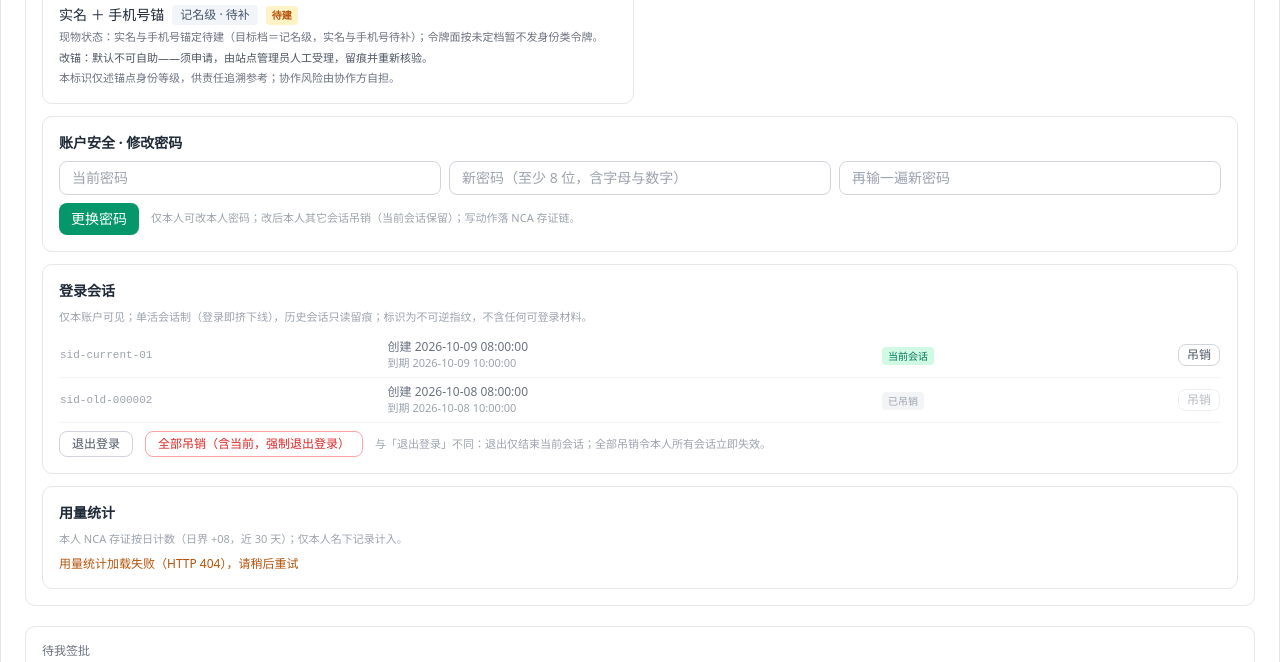
用户控制台 P1（me.tsx 扩充面） › 登录会话卡（踢指定 404）：提示「会话不存在或已失效」（不可见处理口径如实透出）
(page scrolled)
Click the button with test id "me-sess-revoke-sid-current-01" at point(1199, 355), box [1178,344,1220,366]
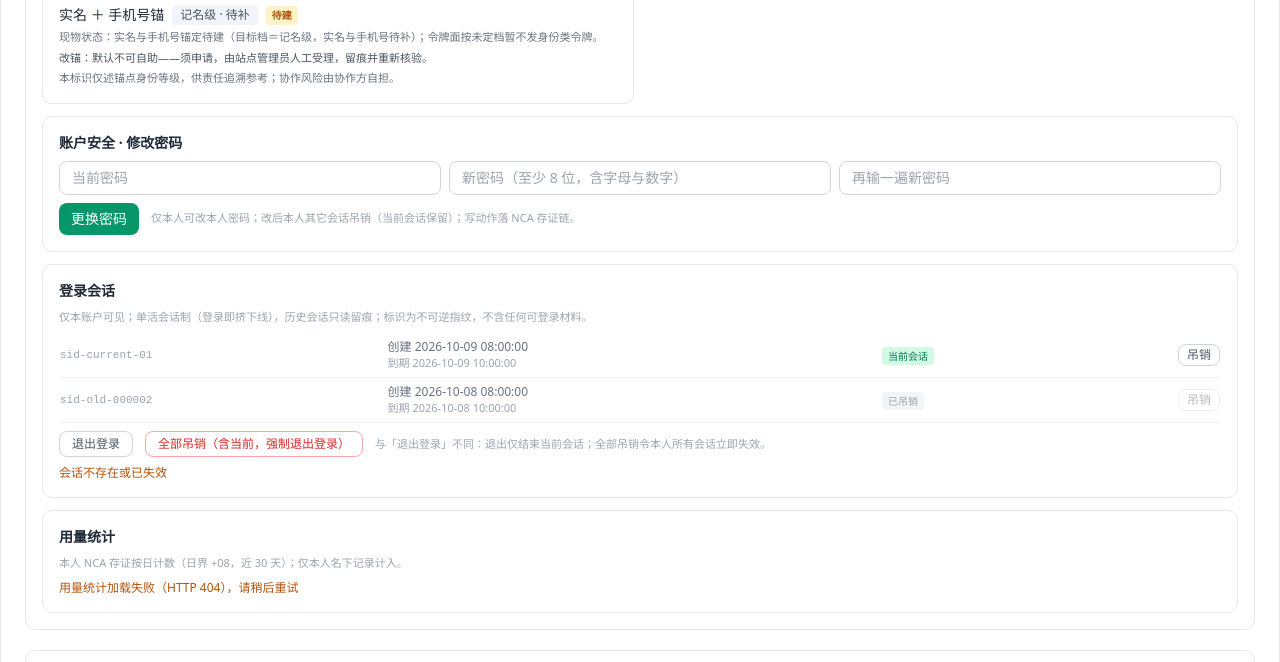
Expected: the text with test id "me-sessions-msg" reads "会话不存在或已失效", [59,464,167,481]
